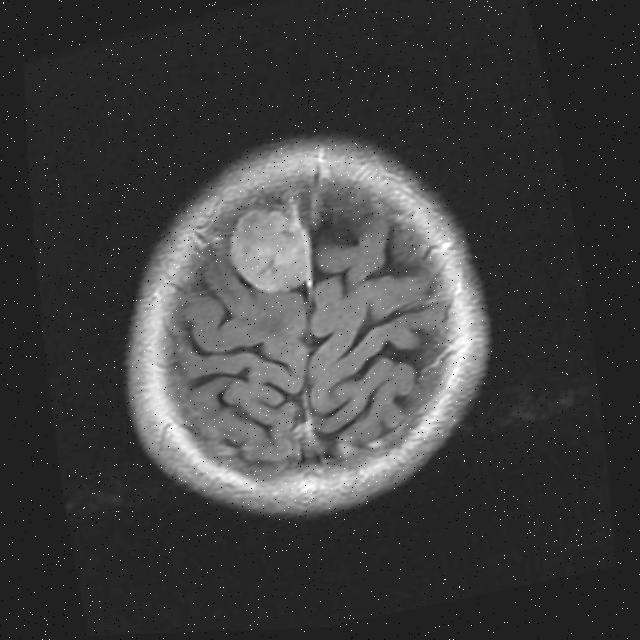Meningioma: (221, 197, 319, 301)
